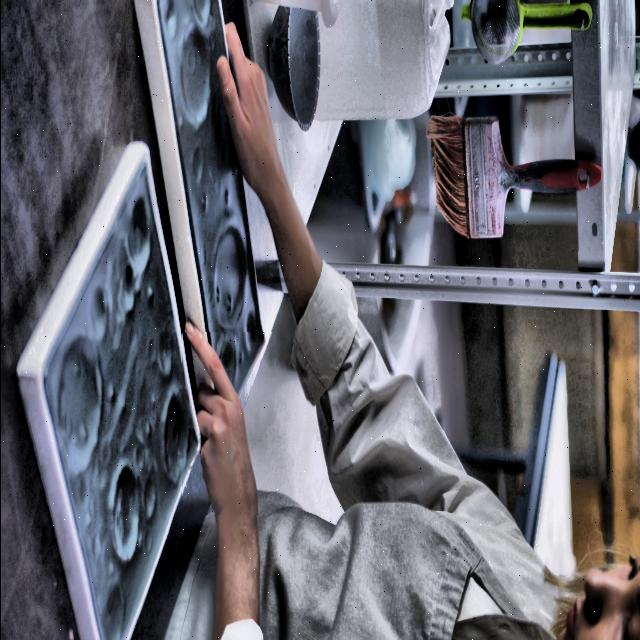not-gloved: (180, 332, 274, 515), (205, 24, 293, 219)
